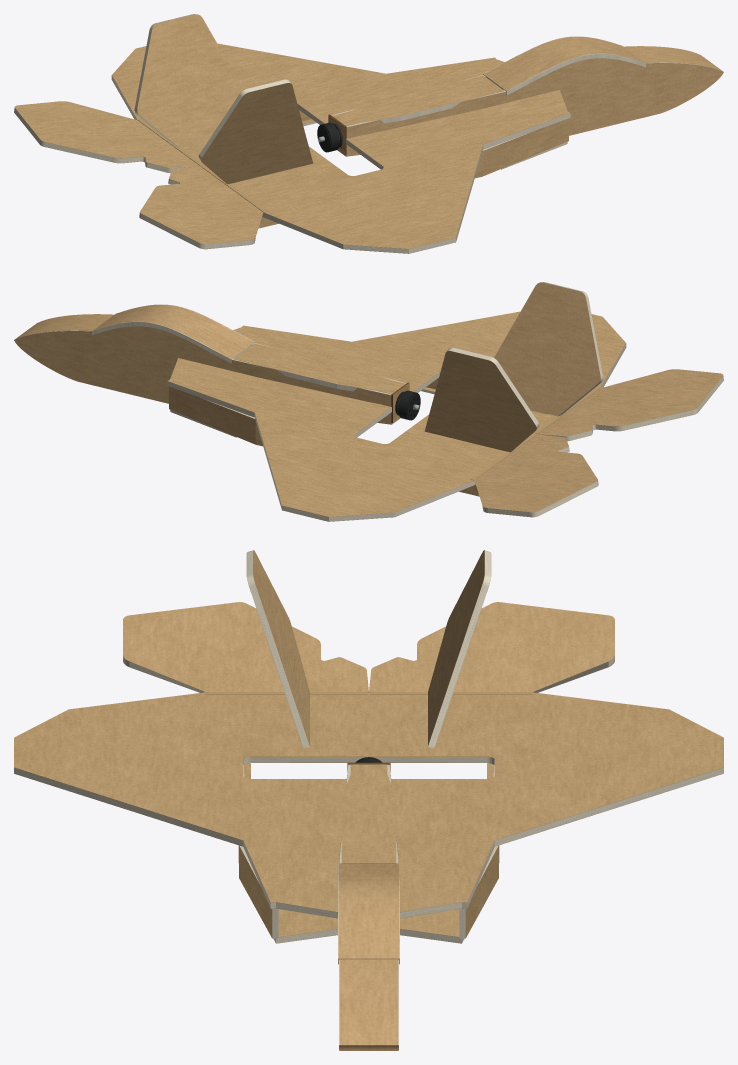
Rendered from ft-mini-f22.glb.
The picture shows the model from 3 angles, top to bottom: view 1: azimuth 30°, elevation 25°; view 2: azimuth 150°, elevation 25°; view 3: azimuth 270°, elevation 25°; orthographic projection. The views are drawn at different scales.
Visible parts, largest first — view 1: 5 mm main wing sheet R, Folded fuselage side R, 5 mm main wing sheet L, Fixed 20 degree fin L, Fixed 20 degree fin R, Paper-hinged beveled elevon L, Paper-hinged beveled elevon R, Removable folded canopy crown, Flat aft power-pod cover, Folded intake wall R, Scored wedge nose skin, 2204 brushless motor and shaft; view 2: 5 mm main wing sheet L, Folded fuselage side L, 5 mm main wing sheet R, Fixed 20 degree fin R, Fixed 20 degree fin L, Paper-hinged beveled elevon R, Paper-hinged beveled elevon L, Removable folded canopy crown, Flat aft power-pod cover, Folded intake wall L, Scored wedge nose skin, 2204 brushless motor and shaft; view 3: 5 mm main wing sheet L, 5 mm main wing sheet R, Paper-hinged beveled elevon L, Paper-hinged beveled elevon R, Removable folded canopy crown, Flat aft power-pod cover, Scored wedge nose skin, Fixed 20 degree fin L, Fixed 20 degree fin R, Front duct belly pan with nose notch, Folded intake wall L, Folded intake wall R.
Boxes of the visible parts, left/top/right/bottom form: 5 mm main wing sheet R: left=201, top=90, right=570, bottom=253; Folded fuselage side R: left=346, top=58, right=723, bottom=156; 5 mm main wing sheet L: left=111, top=43, right=504, bottom=166; Fixed 20 degree fin L: left=134, top=14, right=243, bottom=148; Fixed 20 degree fin R: left=198, top=79, right=313, bottom=184; Paper-hinged beveled elevon L: left=14, top=101, right=199, bottom=173; Paper-hinged beveled elevon R: left=139, top=166, right=263, bottom=249; Removable folded canopy crown: left=483, top=36, right=645, bottom=95; Flat aft power-pod cover: left=332, top=75, right=504, bottom=126; Folded intake wall R: left=482, top=118, right=568, bottom=176; Scored wedge nose skin: left=624, top=46, right=723, bottom=71; 2204 brushless motor and shaft: left=317, top=122, right=342, bottom=152; 5 mm main wing sheet L: left=167, top=358, right=536, bottom=521; Folded fuselage side L: left=14, top=326, right=391, bottom=424; 5 mm main wing sheet R: left=233, top=311, right=626, bottom=434; Fixed 20 degree fin R: left=494, top=282, right=603, bottom=416; Fixed 20 degree fin L: left=424, top=347, right=539, bottom=452; Paper-hinged beveled elevon R: left=538, top=369, right=723, bottom=441; Paper-hinged beveled elevon L: left=474, top=434, right=598, bottom=517; Removable folded canopy crown: left=92, top=304, right=254, bottom=363; Flat aft power-pod cover: left=233, top=343, right=405, bottom=394; Folded intake wall L: left=169, top=386, right=255, bottom=444; Scored wedge nose skin: left=14, top=314, right=113, bottom=339; 2204 brushless motor and shaft: left=395, top=390, right=420, bottom=420; 5 mm main wing sheet L: left=369, top=692, right=723, bottom=918; 5 mm main wing sheet R: left=14, top=692, right=368, bottom=918; Paper-hinged beveled elevon L: left=369, top=602, right=614, bottom=692; Paper-hinged beveled elevon R: left=123, top=602, right=368, bottom=692; Removable folded canopy crown: left=338, top=863, right=399, bottom=963; Flat aft power-pod cover: left=341, top=764, right=396, bottom=863; Scored wedge nose skin: left=340, top=959, right=397, bottom=1045; Fixed 20 degree fin L: left=428, top=550, right=491, bottom=747; Fixed 20 degree fin R: left=246, top=550, right=309, bottom=747; Front duct belly pan with nose notch: left=273, top=909, right=464, bottom=943; Folded intake wall L: left=459, top=845, right=498, bottom=938; Folded intake wall R: left=239, top=845, right=278, bottom=938.
Bounding box in the file's own units: 0.6665 × 0.162 × 0.508.
15 materials, 3 textured.
